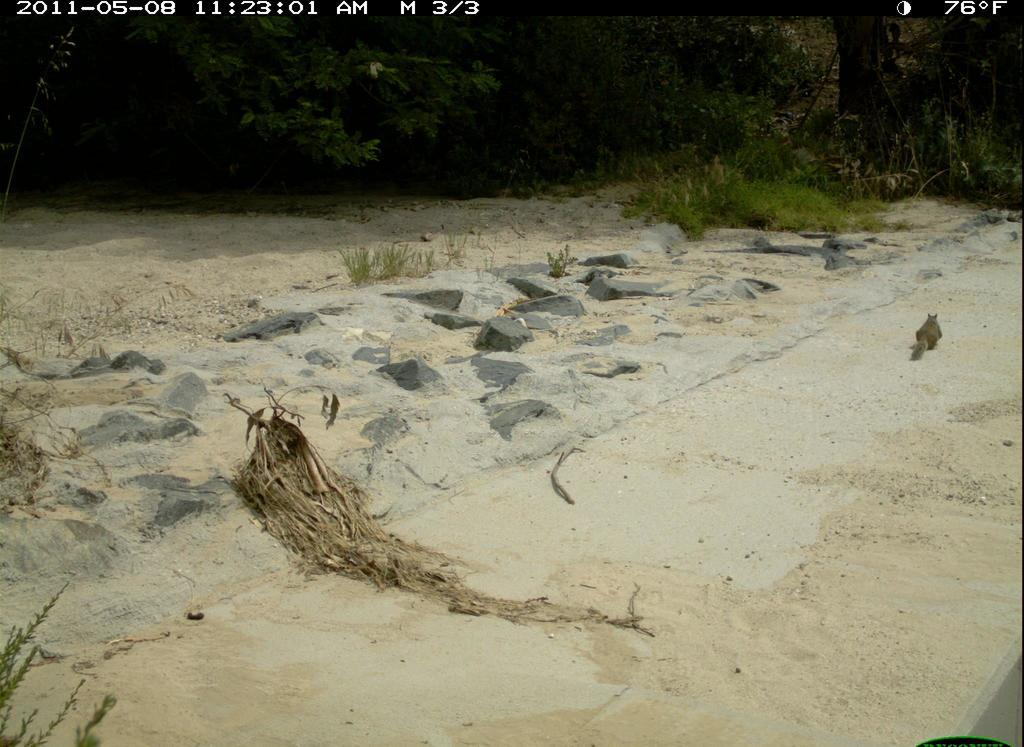squirrel: (908, 303, 950, 365)
